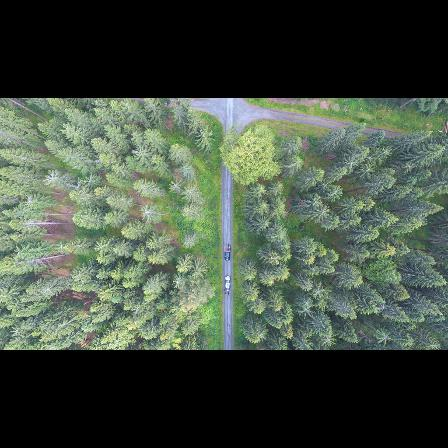Sick: (138, 199, 158, 228), (372, 325, 396, 347), (128, 143, 149, 163), (43, 168, 63, 187), (314, 203, 333, 222), (168, 178, 186, 196), (360, 163, 378, 180), (169, 276, 186, 291), (311, 284, 326, 300), (376, 144, 392, 158), (328, 186, 342, 200), (299, 298, 312, 308)
